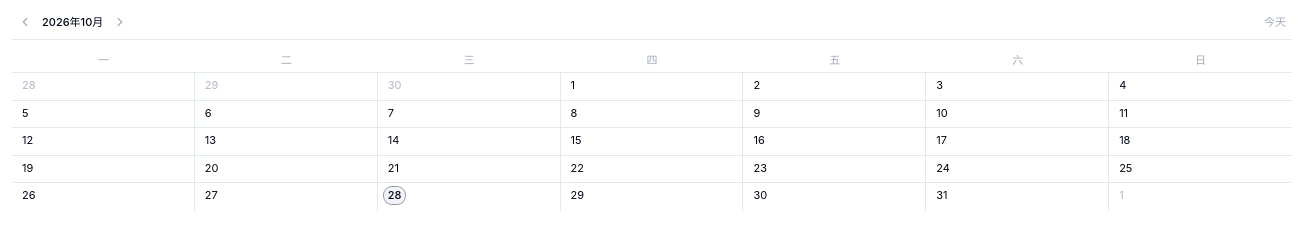
Test: TaskCalendar 空白格右键创建任务 › 空白菜单打开后按 Escape 关闭
Right-click the 2nd element showing "28" at (469, 197), box [378, 183, 561, 210]
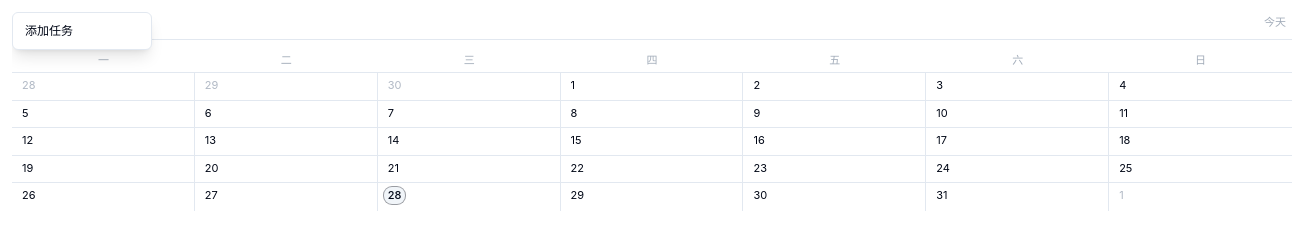
Now the button "添加任务" is shown, box [17, 17, 147, 45]
Press Escape
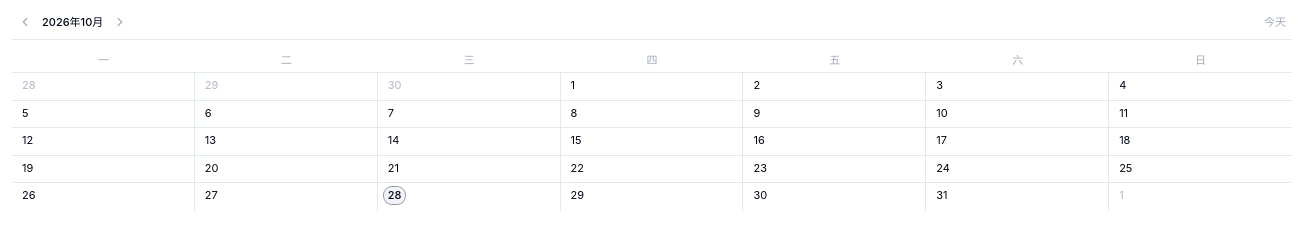
Now the button "添加任务" is gone
